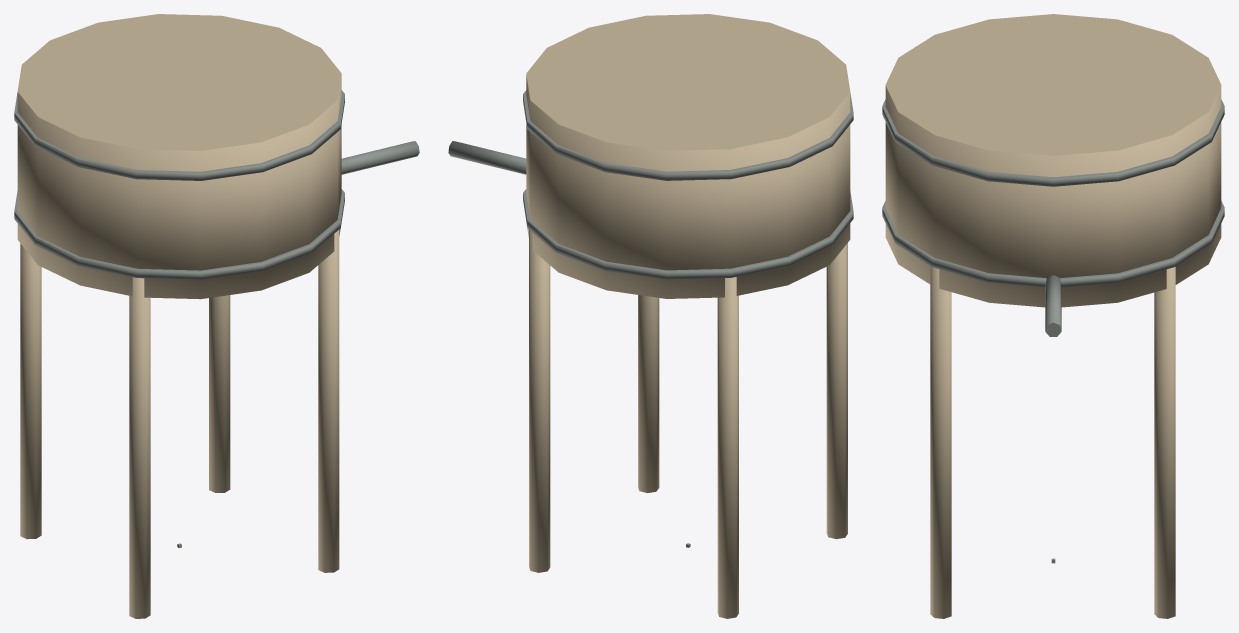
Rendered from rhine-water-tower_lod0.glb.
The picture shows the model from 3 angles, left to right: view 1: azimuth 30°, elevation 25°; view 2: azimuth 150°, elevation 25°; view 3: azimuth 270°, elevation 25°; orthographic projection. The views are drawn at different scales.
Visible parts, largest first — view 1: RF_Tank, RF_TankLeg.001, RF_TankLeg.003, RF_TankLeg.002, RF_TankLeg, RF_TankBand, RF_TankBand.001, RF_WaterPipe; view 2: RF_Tank, RF_TankLeg.002, RF_TankLeg, RF_TankLeg.001, RF_TankLeg.003, RF_TankBand, RF_TankBand.001, RF_WaterPipe; view 3: RF_Tank, RF_TankLeg.003, RF_TankLeg, RF_TankBand, RF_TankBand.001, RF_WaterPipe.
Part boxes in pixels (box(x1,y1,x2,y2)): RF_Tank: box(17, 14, 341, 299); RF_TankLeg.001: box(129, 277, 150, 618); RF_TankLeg.003: box(318, 230, 339, 572); RF_TankLeg.002: box(20, 243, 41, 539); RF_TankLeg: box(209, 295, 230, 492); RF_TankBand: box(14, 90, 344, 180); RF_TankBand.001: box(14, 189, 344, 279); RF_WaterPipe: box(341, 141, 419, 174); RF_Tank: box(526, 14, 850, 298); RF_TankLeg.002: box(717, 277, 738, 618); RF_TankLeg: box(529, 230, 550, 572); RF_TankLeg.001: box(826, 243, 847, 539); RF_TankLeg.003: box(638, 295, 659, 492); RF_TankBand: box(523, 90, 853, 180); RF_TankBand.001: box(523, 189, 853, 279); RF_WaterPipe: box(448, 141, 526, 174); RF_Tank: box(885, 14, 1221, 307); RF_TankLeg.003: box(930, 266, 951, 618); RF_TankLeg: box(1154, 266, 1175, 618); RF_TankBand: box(882, 99, 1224, 186); RF_TankBand.001: box(882, 201, 1224, 287); RF_WaterPipe: box(1045, 275, 1061, 336).
Size of the model in its own units: 8.06 by 9.5 by 6.12.
